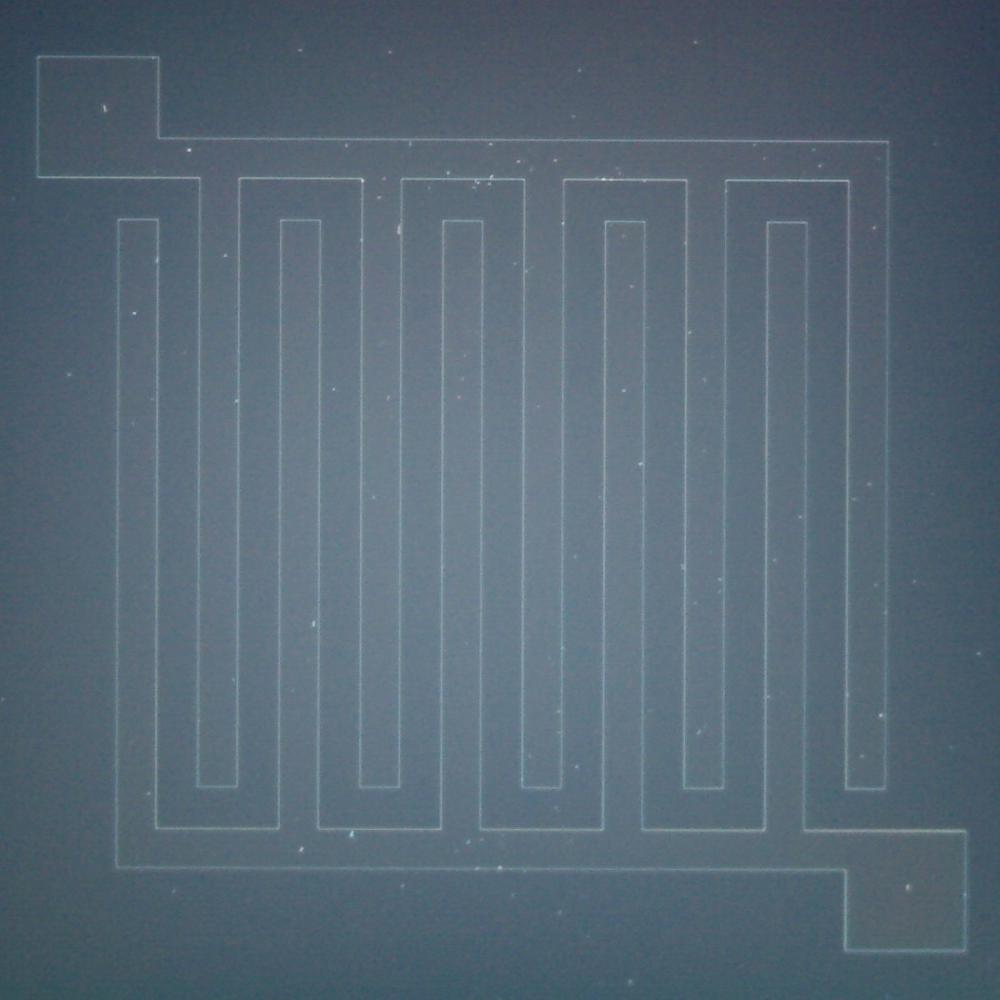dot: (903, 883, 912, 892), (186, 148, 192, 154), (349, 830, 355, 836), (517, 158, 522, 164), (629, 284, 634, 290), (299, 846, 304, 851), (446, 170, 451, 175), (879, 713, 884, 718), (638, 461, 642, 467), (872, 226, 877, 230), (298, 48, 302, 53), (798, 514, 802, 519), (388, 49, 392, 54), (488, 142, 492, 146), (344, 144, 348, 148), (762, 156, 766, 160), (554, 158, 558, 162), (818, 164, 822, 168), (378, 195, 382, 199), (223, 253, 227, 257), (132, 311, 136, 315), (332, 387, 336, 390)
